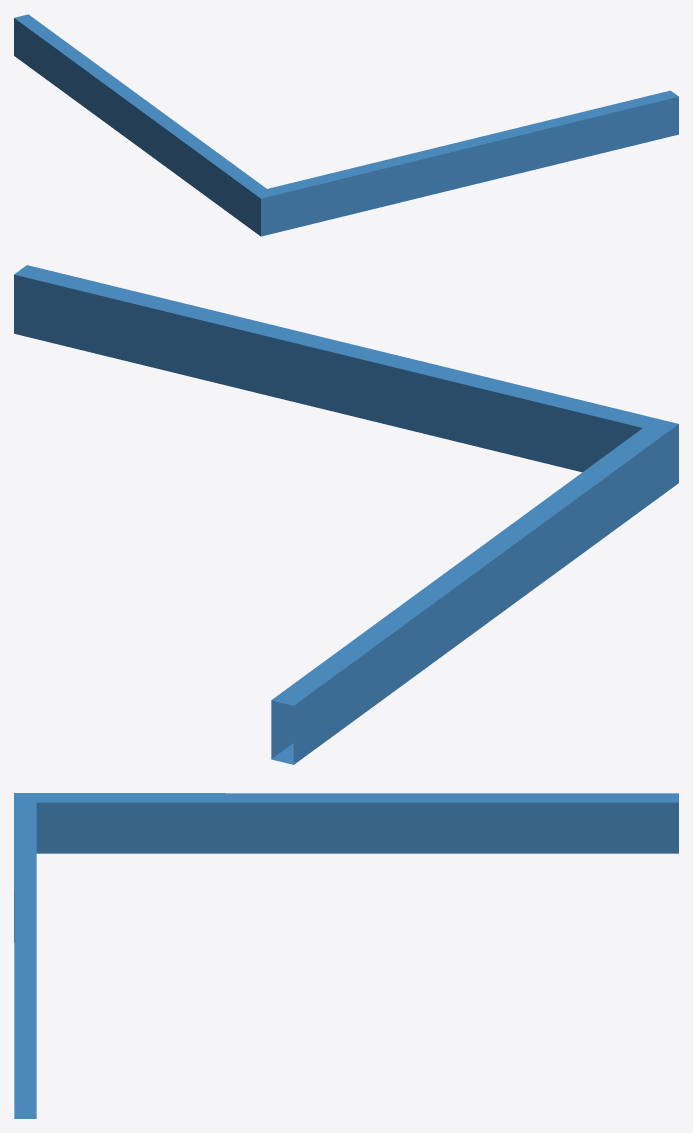
File: Deco_Fence_Base_Cor_A.fbx
The picture shows the model from 3 angles, top to bottom: view 1: azimuth 30°, elevation 25°; view 2: azimuth 150°, elevation 25°; view 3: azimuth 270°, elevation 25°; orthographic projection. The views are drawn at different scales.
Visible parts, largest first — view 1: Deco_Fence_Base_Cor_A; view 2: Deco_Fence_Base_Cor_A; view 3: Deco_Fence_Base_Cor_A.
Part boxes in pixels (x1,y1,x2,y2): Deco_Fence_Base_Cor_A: [14, 14, 678, 236]; Deco_Fence_Base_Cor_A: [14, 265, 678, 764]; Deco_Fence_Base_Cor_A: [14, 793, 678, 1118].
Bounding box in the file's own units: 865 × 75.03 × 885.
